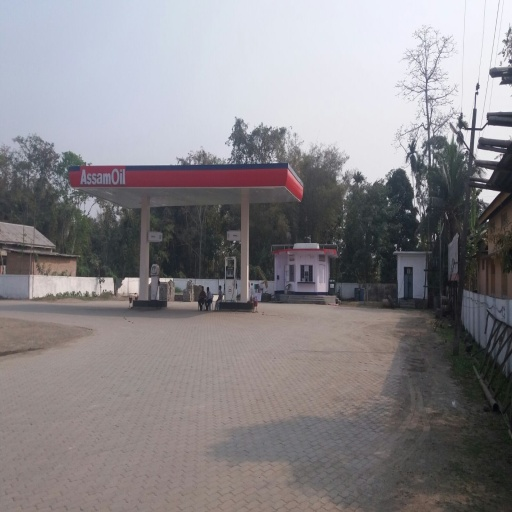roof: (64, 164, 307, 216)
